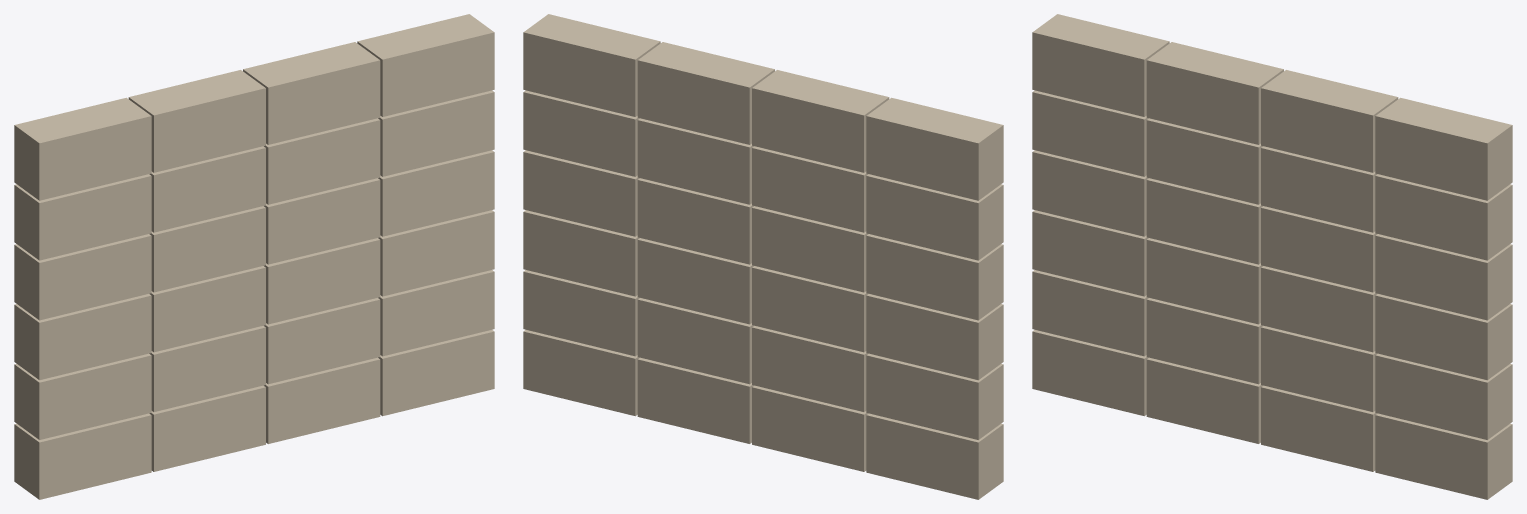
Rendered from ENV_CAE_Wall_Ashlar_4m_A_LOD0.glb.
The picture shows the model from 3 angles, left to right: view 1: azimuth 30°, elevation 25°; view 2: azimuth 150°, elevation 25°; view 3: azimuth 330°, elevation 25°; orthographic projection.
Visible parts, largest first — view 1: ENV_CAE_Wall_Ashlar_4m_A_LOD0; view 2: ENV_CAE_Wall_Ashlar_4m_A_LOD0; view 3: ENV_CAE_Wall_Ashlar_4m_A_LOD0.
Boxes of the visible parts, bbox=[...] form: ENV_CAE_Wall_Ashlar_4m_A_LOD0: bbox=[14, 14, 494, 499]; ENV_CAE_Wall_Ashlar_4m_A_LOD0: bbox=[523, 14, 1003, 499]; ENV_CAE_Wall_Ashlar_4m_A_LOD0: bbox=[1032, 14, 1512, 499].
Size of the model in its own units: 3.98 by 2.98 by 0.38.
